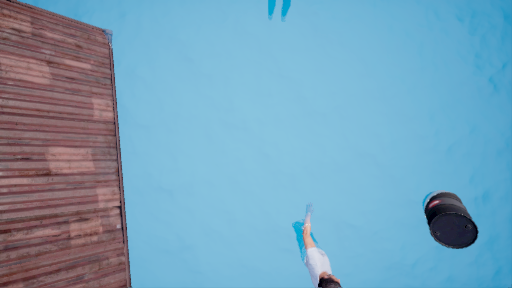person: (297, 204, 348, 288)
